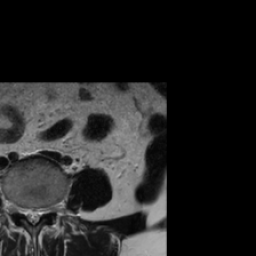CCS_normal: (29, 198, 36, 233)
LFS_normal: (43, 194, 51, 222)
LLS_normal: (36, 199, 43, 228)
RFS_normal: (14, 195, 22, 220)
RLS_normal: (22, 198, 29, 227)
